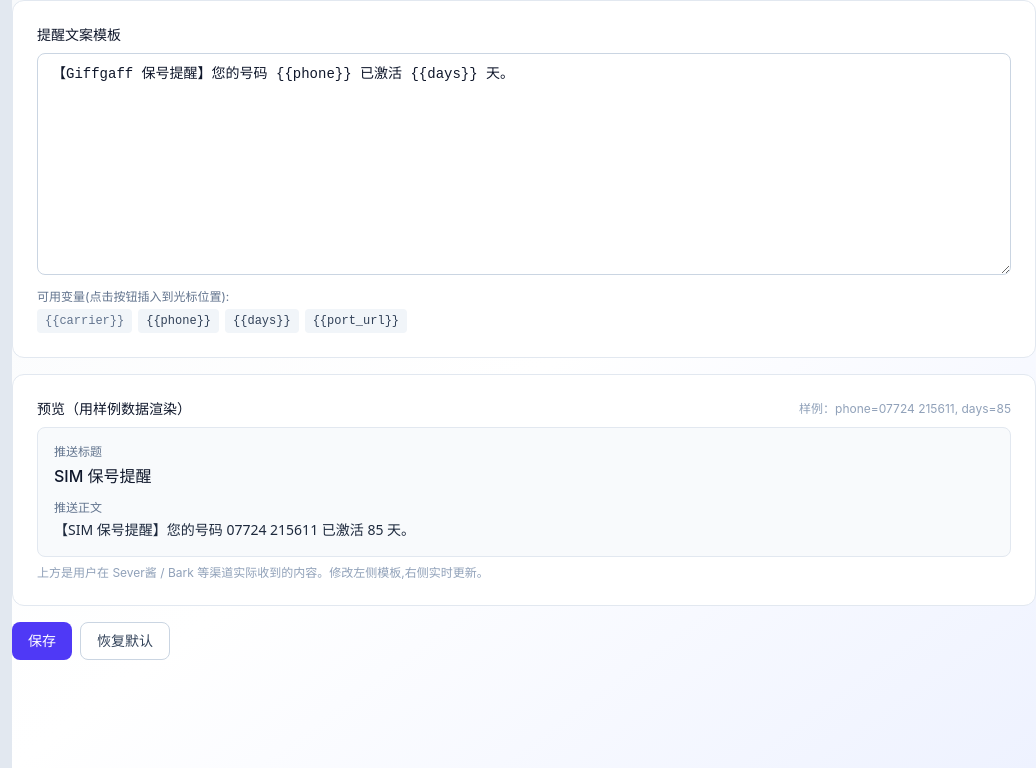
Test case: <SettingsForm /> › 编辑后显示 '有未保存的修改' 提示
Replace the text in the text box showing "【Giffgaff 保号提醒】您的号码 {{phone}} 已激活 {{days}} 天。" with "新内容" at (524,164), box [37,53,1011,275]
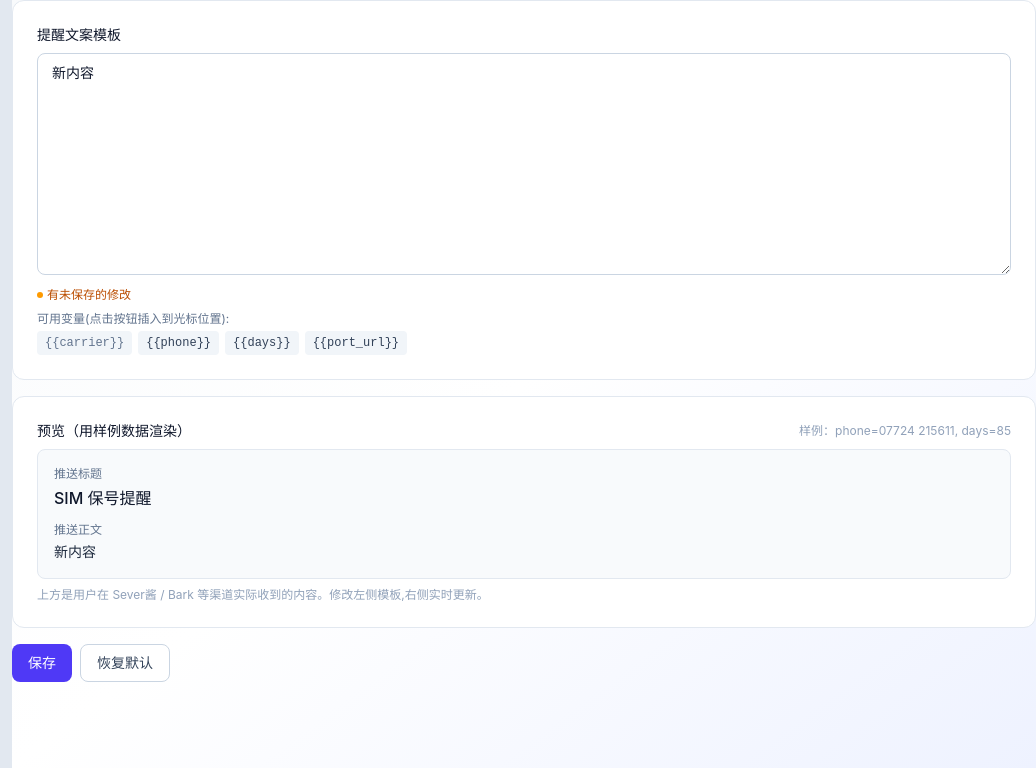
Now the text "有未保存的修改" is shown, box [37,287,131,302]
